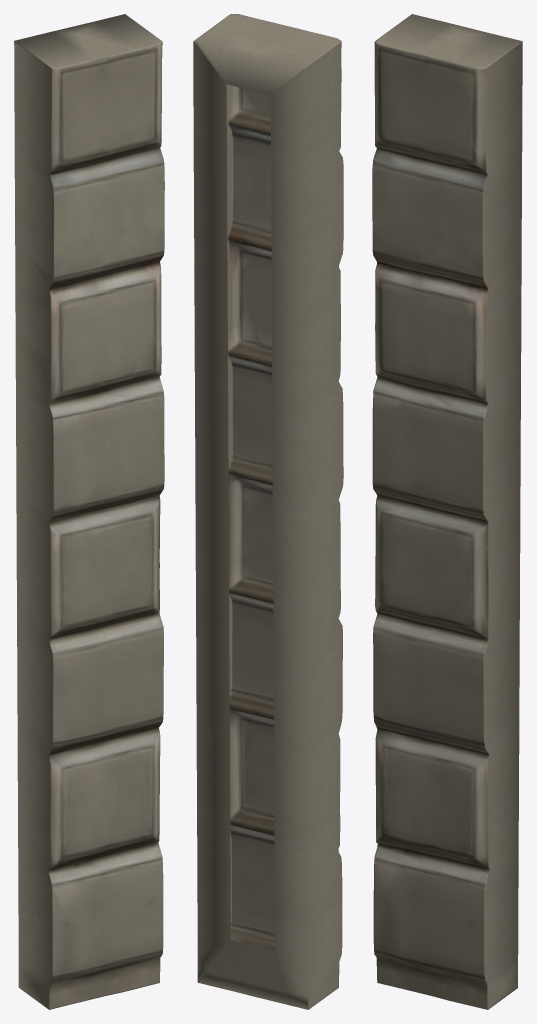
File: modular_wall_09.glb
The picture shows the model from 3 angles, left to right: view 1: azimuth 30°, elevation 25°; view 2: azimuth 150°, elevation 25°; view 3: azimuth 330°, elevation 25°; orthographic projection.
Visible parts, largest first — view 1: modular_wall_9; view 2: modular_wall_9; view 3: modular_wall_9.
Boxes of the visible parts, <box> form: modular_wall_9: <box>14,14,164,1009</box>; modular_wall_9: <box>193,14,343,1009</box>; modular_wall_9: <box>372,14,522,1009</box>.
Bounding box in the file's own units: 0.5 × 4.07 × 0.3154.
1 material, 1 textured.
